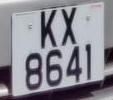1: (82, 42, 97, 85)
4: (64, 42, 85, 89)
6: (42, 46, 66, 92)
8: (21, 49, 46, 96)
K: (38, 6, 60, 52)
X: (58, 4, 79, 51)
